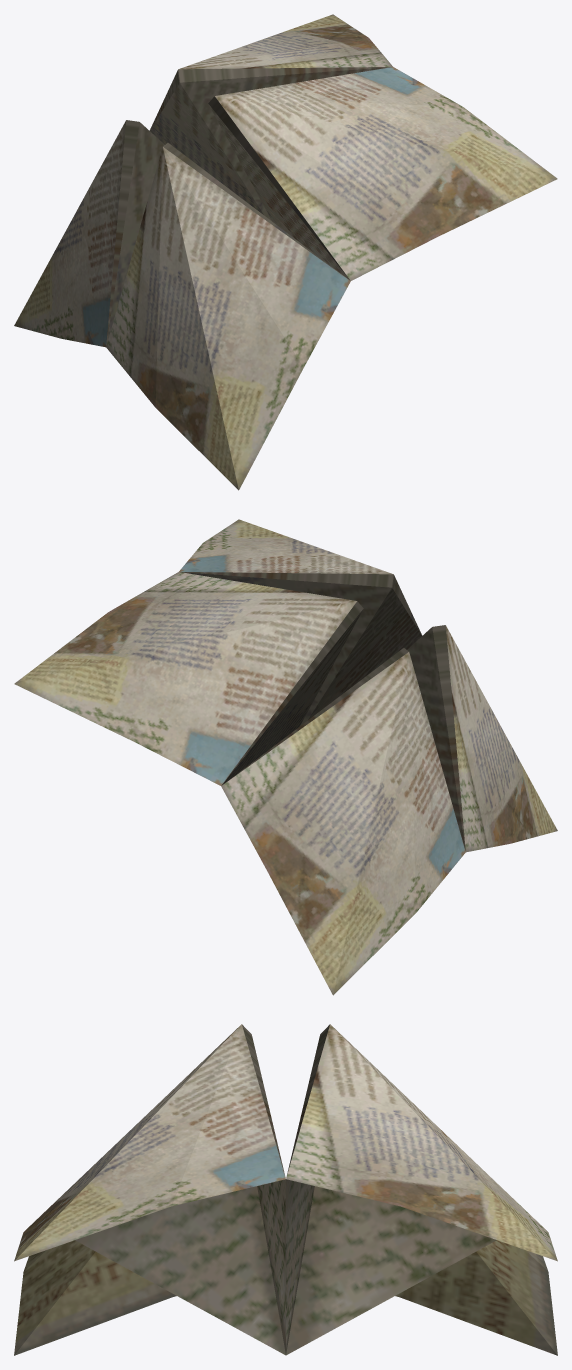
Rendered from Penguin_paperStaff.obj.
3 renders of one model, top to bottom at view 1: azimuth 30°, elevation 25°; view 2: azimuth 150°, elevation 25°; view 3: azimuth 270°, elevation 25°, orthographic. The views are drawn at different scales.
Parts seen in each view (by area): view 1: Penguin_paperStaff_tri; view 2: Penguin_paperStaff_tri; view 3: Penguin_paperStaff_tri.
Boxes of the visible parts, bbox=[...] form: Penguin_paperStaff_tri: bbox=[14, 14, 557, 490]; Penguin_paperStaff_tri: bbox=[14, 519, 557, 995]; Penguin_paperStaff_tri: bbox=[14, 1024, 557, 1355].
Size of the model in its own units: 0.1952 by 0.1695 by 0.224.
Materials: 1 (1 with a texture image).
